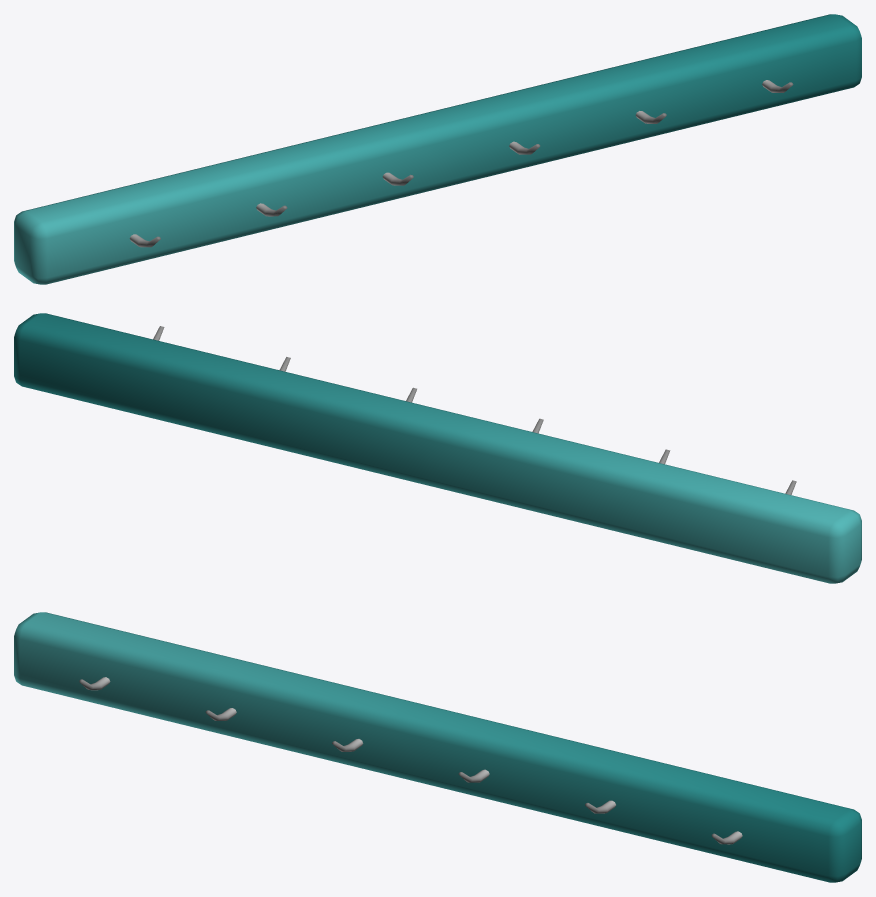
Rendered from Utensil Rack_3.fbx.
3 views of the same model, one above another, from view 1: azimuth 30°, elevation 25°; view 2: azimuth 150°, elevation 25°; view 3: azimuth 330°, elevation 25° (orthographic).
Visible parts, largest first — view 1: Utensil Rack_3; view 2: Utensil Rack_3; view 3: Utensil Rack_3.
Boxes of the visible parts, left/top/right/bottom form: Utensil Rack_3: left=14, top=14, right=861, bottom=284; Utensil Rack_3: left=14, top=313, right=861, bottom=583; Utensil Rack_3: left=14, top=612, right=861, bottom=882.
Bounding box in the file's own units: 0.7451 × 0.0536 × 0.0831.
1 material, 1 textured.
